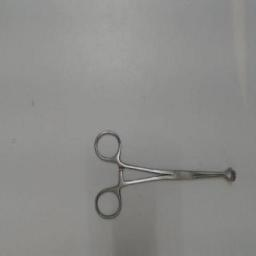Babcock Tissue Forceps: (93, 126, 239, 224)
